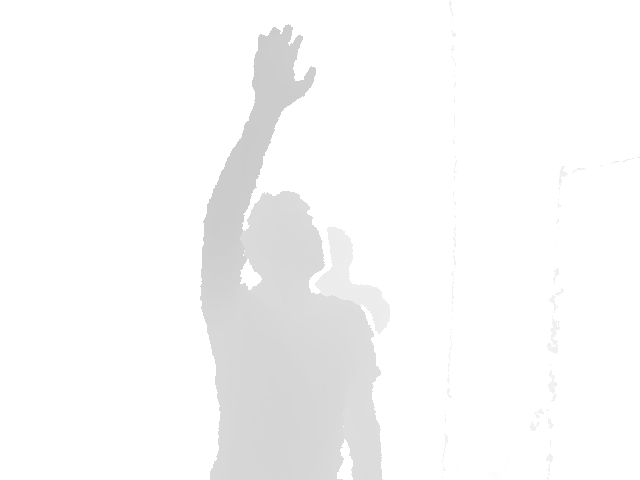hand: (251, 25, 315, 113)
head: (243, 187, 326, 289), (315, 226, 355, 288)
person: (200, 25, 384, 479), (312, 228, 393, 336)
